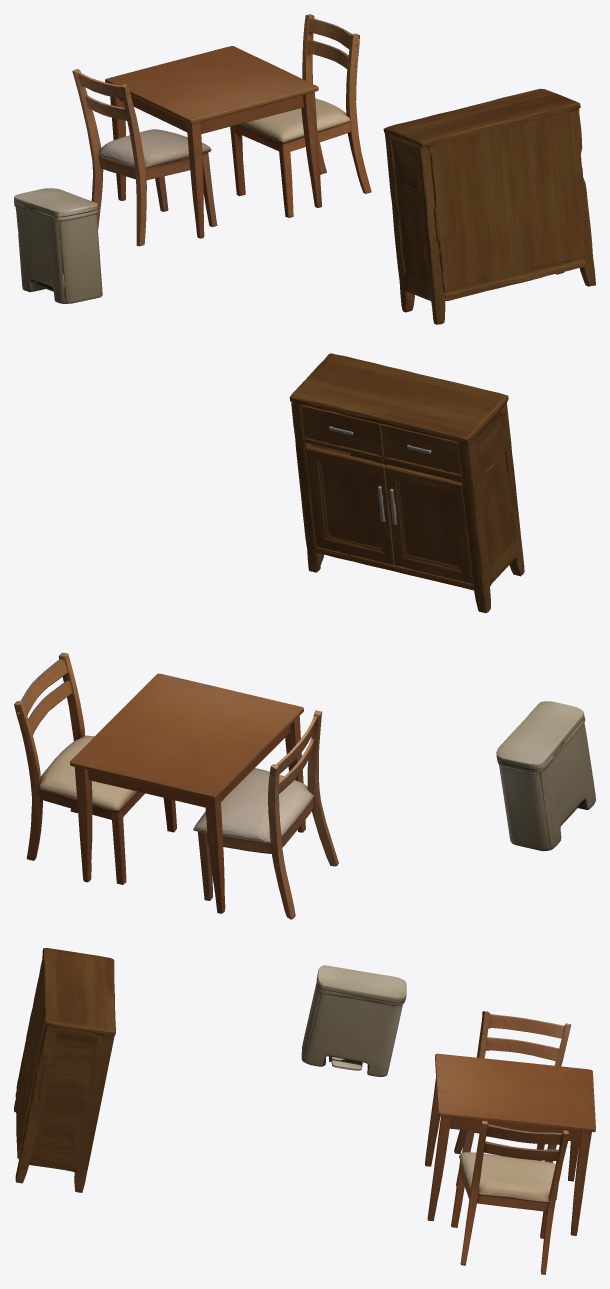
Rendered from figure6-3.glb.
3 views of the same model, one above another, from view 1: azimuth 30°, elevation 25°; view 2: azimuth 150°, elevation 25°; view 3: azimuth 270°, elevation 25° (orthographic). The views are drawn at different scales.
Visible parts, largest first — view 1: obj_3_part_0, obj_1_part_0, obj_2_part_0, obj_0_part_0, obj_4_part_0, obj_4_part_2; view 2: obj_1_part_0, obj_3_part_0, obj_2_part_0, obj_0_part_0, obj_3_part_2, obj_3_part_1, obj_4_part_0, obj_4_part_2, obj_3_part_4, obj_3_part_3; view 3: obj_3_part_0, obj_1_part_0, obj_0_part_0, obj_4_part_0, obj_2_part_0, obj_4_part_2.
Boxes of the visible parts, left/top/right/bottom form: obj_3_part_0: left=383, top=88, right=595, bottom=324; obj_1_part_0: left=105, top=46, right=321, bottom=238; obj_2_part_0: left=72, top=69, right=217, bottom=246; obj_0_part_0: left=230, top=14, right=371, bottom=217; obj_4_part_0: left=14, top=203, right=102, bottom=303; obj_4_part_2: left=14, top=188, right=98, bottom=220; obj_1_part_0: left=70, top=673, right=305, bottom=913; obj_3_part_0: left=289, top=353, right=524, bottom=613; obj_2_part_0: left=193, top=710, right=338, bottom=919; obj_0_part_0: left=14, top=652, right=176, bottom=884; obj_3_part_2: left=299, top=446, right=394, bottom=566; obj_3_part_1: left=384, top=465, right=478, bottom=587; obj_4_part_0: left=498, top=720, right=595, bottom=851; obj_4_part_2: left=496, top=701, right=585, bottom=771; obj_3_part_4: left=294, top=405, right=383, bottom=460; obj_3_part_3: left=381, top=423, right=468, bottom=481; obj_3_part_0: left=14, top=948, right=115, bottom=1192; obj_1_part_0: left=425, top=1053, right=595, bottom=1235; obj_0_part_0: left=451, top=1120, right=569, bottom=1274; obj_4_part_0: left=301, top=984, right=403, bottom=1076; obj_2_part_0: left=454, top=1011, right=571, bottom=1186; obj_4_part_2: left=316, top=965, right=406, bottom=1004.
Bounding box in the file's own units: 1.06 × 0.6871 × 1.43.
Materials: 11 (11 with a texture image).
